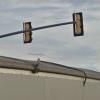Traffic light: (18, 9, 89, 49)
